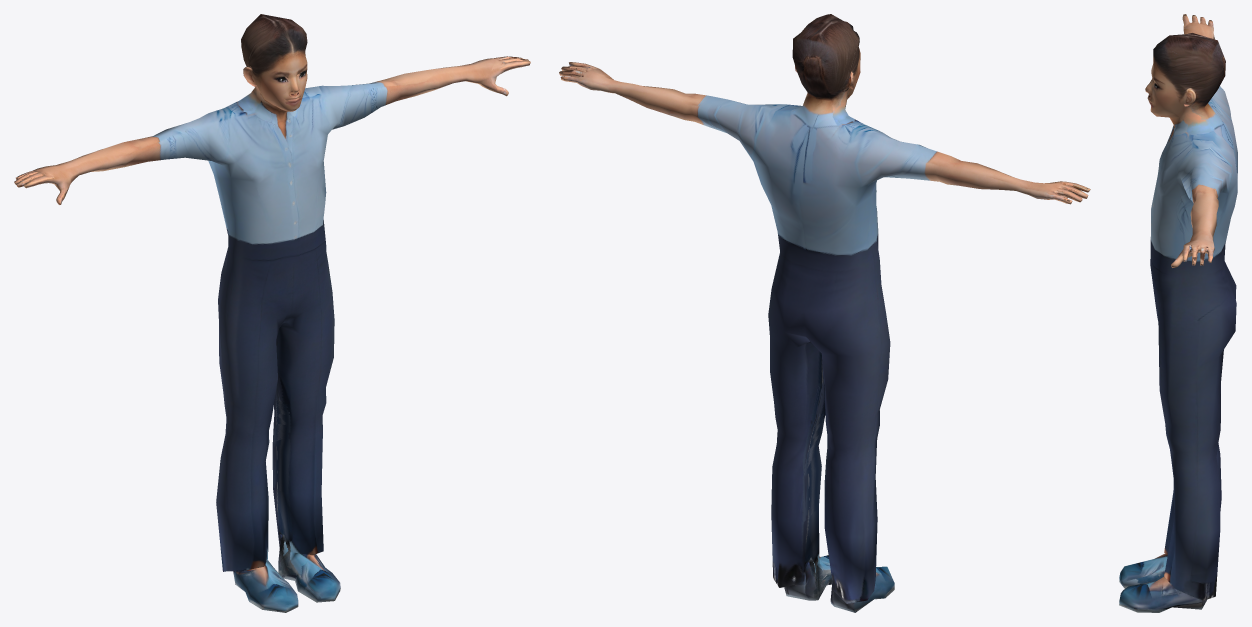
The model's file is _0803041221_texture.fbx.
The picture shows the model from 3 angles, left to right: view 1: azimuth 30°, elevation 25°; view 2: azimuth 150°, elevation 25°; view 3: azimuth 270°, elevation 25°; orthographic projection. The views are drawn at different scales.
Visible parts, largest first — view 1: input; view 2: input; view 3: input.
Boxes of the visible parts, <box> form: input: <box>14,14,530,612</box>; input: <box>559,14,1090,612</box>; input: <box>1119,14,1237,612</box>.
Bounding box in the file's own units: 190 × 200 × 38.53.
Materials: 1 (1 with a texture image).
